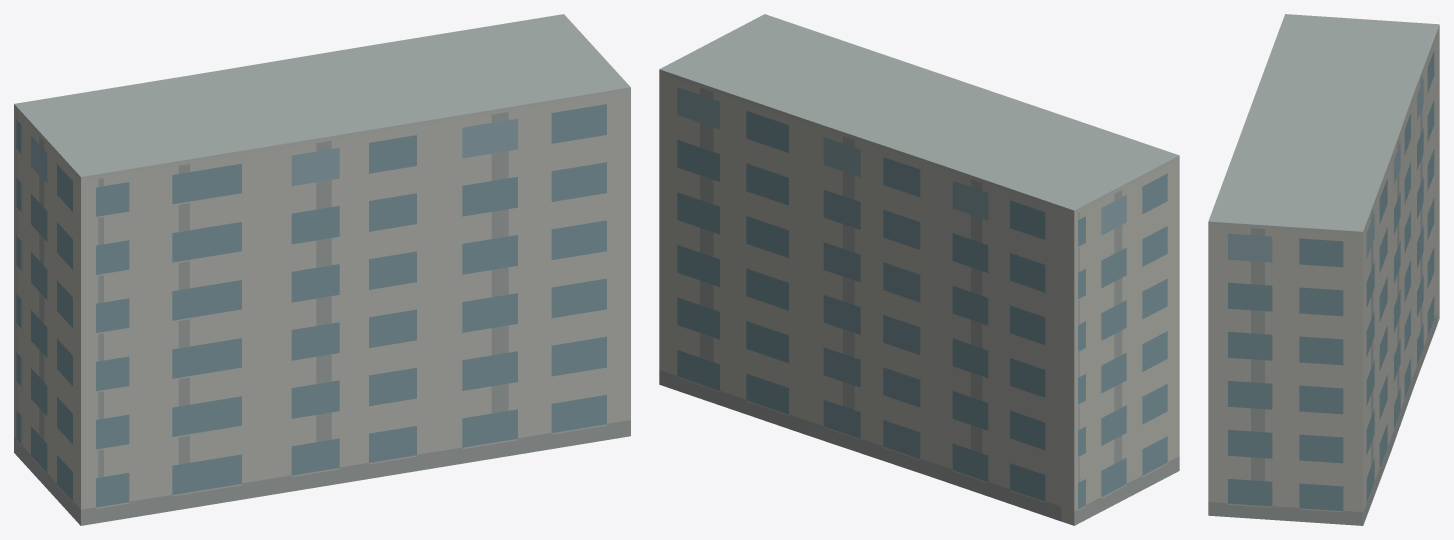
File: residential-c2a2cfaf-ce1c-4216-84eb-70ac31c954a9.glb
The picture shows the model from 3 angles, left to right: view 1: azimuth 30°, elevation 25°; view 2: azimuth 150°, elevation 25°; view 3: azimuth 270°, elevation 25°; orthographic projection. The views are drawn at different scales.
Parts seen in each view (by area): view 1: residential-c2a2cfaf-ce1c-4216-84eb-70ac31c954a9.tmp; view 2: residential-c2a2cfaf-ce1c-4216-84eb-70ac31c954a9.tmp; view 3: residential-c2a2cfaf-ce1c-4216-84eb-70ac31c954a9.tmp.
Boxes of the visible parts, <box> form: residential-c2a2cfaf-ce1c-4216-84eb-70ac31c954a9.tmp: <box>14,14,630,525</box>; residential-c2a2cfaf-ce1c-4216-84eb-70ac31c954a9.tmp: <box>659,14,1179,525</box>; residential-c2a2cfaf-ce1c-4216-84eb-70ac31c954a9.tmp: <box>1208,14,1439,525</box>.
Size of the model in its own units: 29.07 by 18.3 by 13.05.
